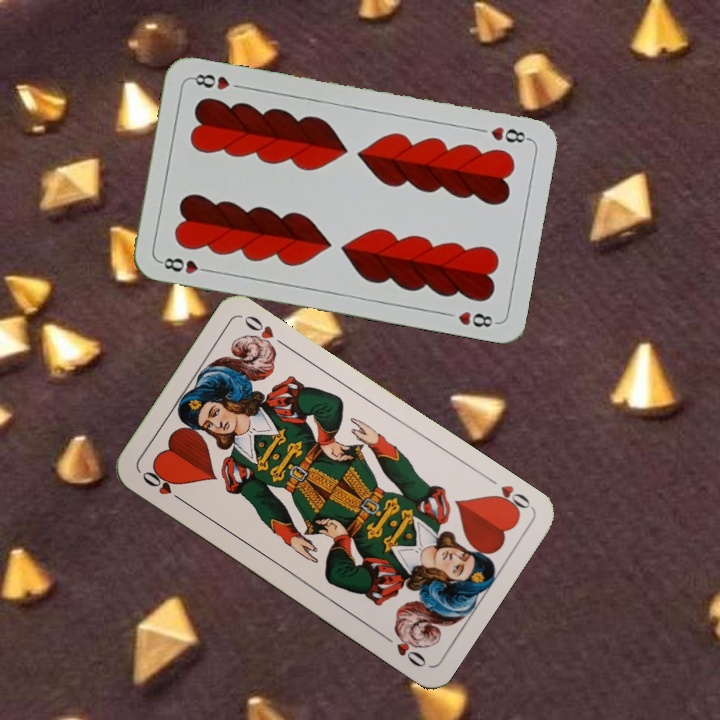H8: (155, 253, 214, 277), (486, 122, 532, 146)
HO: (138, 466, 189, 506), (486, 481, 534, 518)
